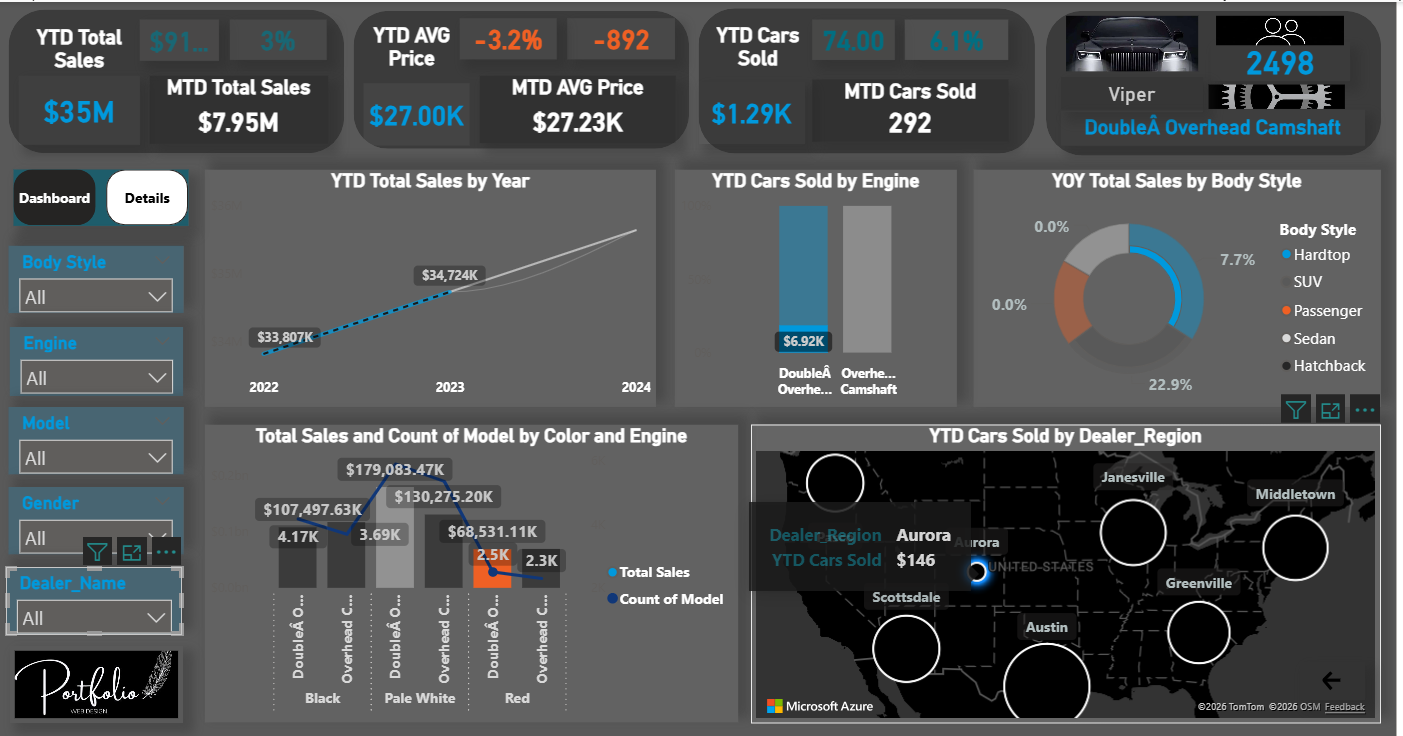

What the dashboard file says about the page in this screenshot:
{"tool":"powerbi","page":{"name":"Dashboard","canvas":[1331,699],"ordinal":0},"visuals":[{"type":"shape","box":[668.1,6.2,319.7,138.1],"z":0},{"type":"shape","box":[12.1,7.3,319.2,136.6],"z":1000},{"type":"shape","box":[340,7.9,319,131.3],"z":2000},{"type":"shape","box":[998.1,7.9,318.7,137.7],"z":3000},{"type":"card","fields":{"Values":["- ALL Measures.YTD Total Sales"]},"box":[21,70,115.5,65.6],"z":4000},{"type":"card","fields":{"Values":["- ALL Measures.Sales Diff"]},"box":[136.5,16.4,74.8,39.4],"z":5000},{"type":"card","fields":{"Values":["- ALL Measures.YOY  Total Sales"]},"box":[222.7,16.8,92.1,38.6],"z":6000},{"type":"card","title":"MTD Total Sales","fields":{"Values":["- ALL Measures.MTD Total Sales"]},"box":[145.6,70.5,169.2,64.7],"z":7000},{"type":"textbox","box":[21.2,17.4,115.7,53.5],"z":8000},{"type":"card","fields":{"Values":["- ALL Measures.YTD AVG Price"]},"box":[349.2,76.8,101.1,59.1],"z":9000},{"type":"card","fields":{"Values":["- ALL Measures.AVG Price Diff"]},"box":[543.5,15.8,102.4,39.4],"z":10000},{"type":"card","fields":{"Values":["- ALL Measures.YOY AVG Price"]},"box":[441.1,15.8,91.9,39.4],"z":11000},{"type":"textbox","box":[349.2,15.8,91.9,53.8],"z":12000},{"type":"card","title":"MTD AVG Price","fields":{"Values":["- ALL Measures.MTD AVG Price"]},"box":[459.5,69.6,186.4,64.3],"z":13000},{"type":"card","fields":{"Values":["- ALL Measures.YTD Cars Sold"]},"box":[668.3,75.5,101.1,59.1],"z":14000},{"type":"card","fields":{"Values":["- ALL Measures.Cars Sold Diff"]},"box":[775.9,17.1,78.8,38.1],"z":15000},{"type":"card","fields":{"Values":["- ALL Measures.YOY Cars Sold"]},"box":[863.9,17.1,98.5,38.1],"z":16000},{"type":"card","title":"MTD Cars Sold","fields":{"Values":["- ALL Measures.MTD Cars Sold"]},"box":[775.9,73.5,186.4,59.1],"z":17000},{"type":"card","title":"Total Customers","fields":{"Values":["- ALL Measures.TOTAL Customers"]},"box":[1155.4,38,131.6,36.7],"z":18000},{"type":"textbox","box":[680.1,15.8,89.3,61.7],"z":19000},{"type":"card","title":"TOP Engine","fields":{"Values":["- ALL Measures.Top Engine"]},"box":[1012.2,102.4,288.8,34.1],"z":20000},{"type":"image","box":[1147.6,73.4,139,32.8],"z":21000},{"type":"card","fields":{"Values":["- ALL Measures.Top Model"]},"box":[1012.5,70.8,135.1,32.8],"z":22000},{"type":"image","box":[1012.5,7.9,135.1,63],"z":23000},{"type":"image","box":[1155.5,7.9,131.2,38],"z":24000},{"type":"donutChart","fields":{"Category":["car_data.Body Style"],"Y":["- ALL Measures.YOY  Total Sales"]},"box":[929.1,159.1,386.9,225.3],"z":25000},{"type":"hundredPercentStackedColumnChart","fields":{"Y":["- ALL Measures.YTD Cars Sold"],"Category":["car_data.Engine"]},"box":[645.4,159.4,268.3,225.3],"z":27000},{"type":"lineChart","fields":{"Y":["- ALL Measures.YTD Total Sales"],"Category":["Dates.Date.Variation.Date Hierarchy.Year","Dates.Date.Variation.Date Hierarchy.Quarter","Dates.Date.Variation.Date Hierarchy.Month","Dates.Date.Variation.Date Hierarchy.Day"]},"box":[198.7,159.4,429,225.3],"z":28000},{"type":"lineClusteredColumnComboChart","fields":{"Category":["car_data.Color","car_data.Engine"],"Y":["- ALL Measures.Total Sales"],"Y2":["CountNonNull(car_data.Model)"]},"box":[198.7,401.1,507.4,283.5],"z":29000},{"type":"slicer","fields":{"Values":["car_data.Body Style"]},"box":[11.9,231.5,166.2,64.1],"z":30000},{"type":"slicer","fields":{"Values":["car_data.Gender"]},"box":[11.9,460.6,166.2,64.1],"z":31000},{"type":"slicer","fields":{"Values":["car_data.Engine"]},"box":[13.1,308.7,165,65.3],"z":32000},{"type":"slicer","fields":{"Values":["car_data.Model"]},"box":[11.9,384.6,166.2,64.1],"z":33000},{"type":"slicer","fields":{"Values":["car_data.Dealer_Name"]},"box":[9.5,536.6,167.4,64.1],"z":34000},{"type":"image","box":[13.1,611.4,165,73.6],"z":35000},{"type":"pageNavigator","box":[16.6,159.1,166.2,53.4],"z":36000},{"type":"azureMap","fields":{"Size":["- ALL Measures.YTD Cars Sold"],"Category":["car_data.Dealer_Region"]},"box":[718.2,401.3,598.3,283.7],"z":37000},{"type":"actionButton","box":[1239.4,626.8,61.7,35.6],"z":39000}]}

Visuals, with their boxes in screenshot pixels (x1, y1, x2, y2), scaled from the page's 1331x699 canvas onto the 1403x736 screenshot:
shape: {"x1": 704, "y1": 7, "x2": 1041, "y2": 152}
shape: {"x1": 13, "y1": 8, "x2": 349, "y2": 152}
shape: {"x1": 358, "y1": 8, "x2": 695, "y2": 147}
shape: {"x1": 1052, "y1": 8, "x2": 1388, "y2": 153}
card - - ALL Measures.YTD Total Sales: {"x1": 22, "y1": 74, "x2": 144, "y2": 143}
card - - ALL Measures.Sales Diff: {"x1": 144, "y1": 17, "x2": 223, "y2": 59}
card - - ALL Measures.YOY  Total Sales: {"x1": 235, "y1": 18, "x2": 332, "y2": 58}
"MTD Total Sales" card: {"x1": 153, "y1": 74, "x2": 332, "y2": 142}
textbox: {"x1": 22, "y1": 18, "x2": 144, "y2": 75}
card - - ALL Measures.YTD AVG Price: {"x1": 368, "y1": 81, "x2": 475, "y2": 143}
card - - ALL Measures.AVG Price Diff: {"x1": 573, "y1": 17, "x2": 681, "y2": 58}
card - - ALL Measures.YOY AVG Price: {"x1": 465, "y1": 17, "x2": 562, "y2": 58}
textbox: {"x1": 368, "y1": 17, "x2": 465, "y2": 73}
"MTD AVG Price" card: {"x1": 484, "y1": 73, "x2": 681, "y2": 141}
card - - ALL Measures.YTD Cars Sold: {"x1": 704, "y1": 79, "x2": 811, "y2": 142}
card - - ALL Measures.Cars Sold Diff: {"x1": 818, "y1": 18, "x2": 901, "y2": 58}
card - - ALL Measures.YOY Cars Sold: {"x1": 911, "y1": 18, "x2": 1014, "y2": 58}
"MTD Cars Sold" card: {"x1": 818, "y1": 77, "x2": 1014, "y2": 140}
"Total Customers" card: {"x1": 1218, "y1": 40, "x2": 1357, "y2": 79}
textbox: {"x1": 717, "y1": 17, "x2": 811, "y2": 82}
"TOP Engine" card: {"x1": 1067, "y1": 108, "x2": 1371, "y2": 144}
image: {"x1": 1210, "y1": 77, "x2": 1356, "y2": 112}
card - - ALL Measures.Top Model: {"x1": 1067, "y1": 75, "x2": 1210, "y2": 109}
image: {"x1": 1067, "y1": 8, "x2": 1210, "y2": 75}
image: {"x1": 1218, "y1": 8, "x2": 1356, "y2": 48}
donutChart - car_data.Body Style x - ALL Measures.YOY  Total Sales: {"x1": 979, "y1": 168, "x2": 1387, "y2": 405}
hundredPercentStackedColumnChart - - ALL Measures.YTD Cars Sold x car_data.Engine: {"x1": 680, "y1": 168, "x2": 963, "y2": 405}
lineChart - - ALL Measures.YTD Total Sales x Dates.Date.Variation.Date Hierarchy.Year: {"x1": 209, "y1": 168, "x2": 662, "y2": 405}
lineClusteredColumnComboChart - car_data.Color x car_data.Engine: {"x1": 209, "y1": 422, "x2": 744, "y2": 721}
slicer - car_data.Body Style: {"x1": 13, "y1": 244, "x2": 188, "y2": 311}
slicer - car_data.Gender: {"x1": 13, "y1": 485, "x2": 188, "y2": 552}
slicer - car_data.Engine: {"x1": 14, "y1": 325, "x2": 188, "y2": 394}
slicer - car_data.Model: {"x1": 13, "y1": 405, "x2": 188, "y2": 472}
slicer - car_data.Dealer_Name: {"x1": 10, "y1": 565, "x2": 186, "y2": 632}
image: {"x1": 14, "y1": 644, "x2": 188, "y2": 721}
pageNavigator: {"x1": 17, "y1": 168, "x2": 193, "y2": 224}
azureMap - - ALL Measures.YTD Cars Sold x car_data.Dealer_Region: {"x1": 757, "y1": 423, "x2": 1388, "y2": 721}
actionButton: {"x1": 1306, "y1": 660, "x2": 1371, "y2": 697}
